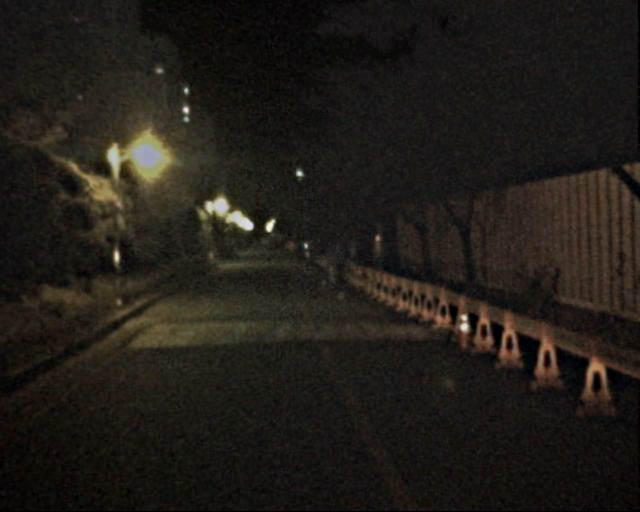person: (302, 244, 319, 285), (332, 245, 348, 285), (321, 245, 337, 285), (289, 242, 300, 269)
